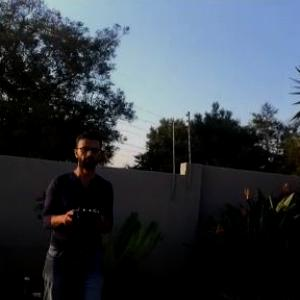follow: (38, 118, 118, 299)
